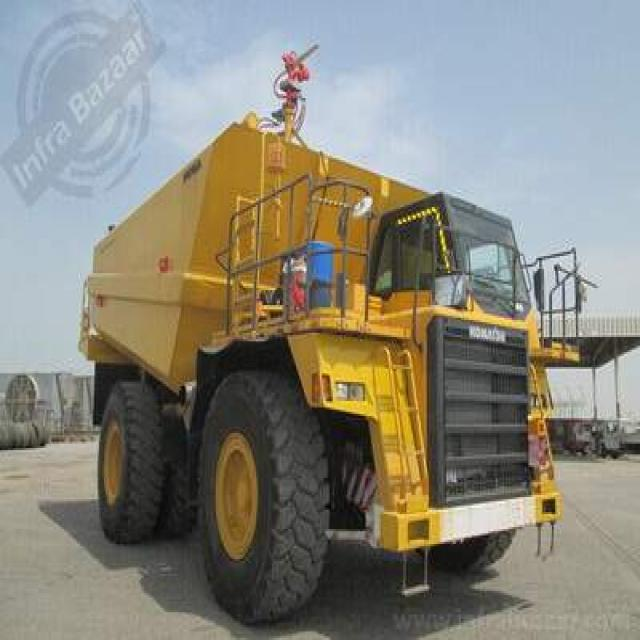dump_truck: (50, 55, 589, 638)
